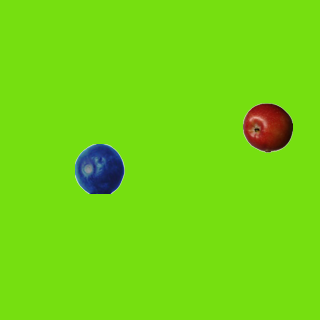Apple Braeburn: (242, 102, 292, 152)
Huckleberry: (74, 143, 124, 193)
